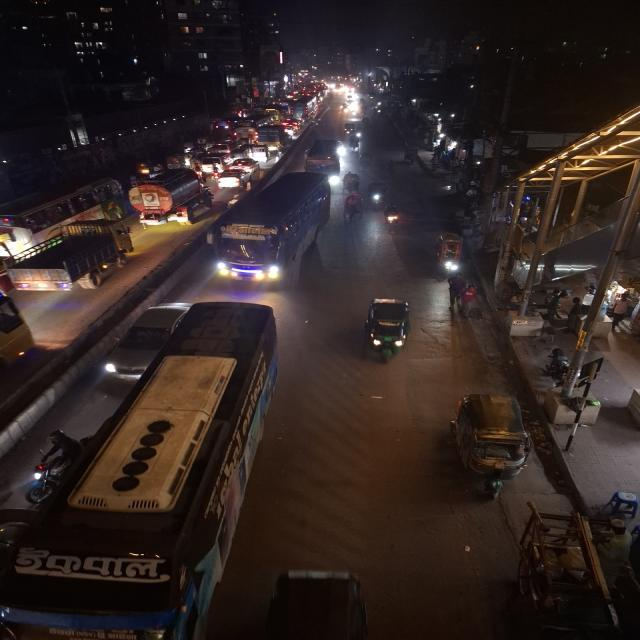bus: (17, 293, 285, 640), (209, 170, 333, 286), (0, 173, 122, 250), (302, 138, 343, 182)
car: (6, 230, 126, 294), (101, 301, 187, 381), (215, 169, 250, 191), (230, 157, 261, 173), (201, 154, 225, 173), (248, 144, 270, 160)
cng: (449, 389, 535, 504), (257, 565, 385, 640), (362, 296, 414, 363), (342, 121, 358, 137)
motorcycle: (20, 427, 84, 507), (382, 200, 403, 230)
pedestrian: (445, 271, 465, 313), (463, 283, 480, 320)
rickshaw: (430, 230, 468, 282), (341, 190, 366, 224), (366, 179, 390, 209), (341, 170, 364, 194)
truck: (8, 231, 126, 295), (127, 167, 212, 227), (254, 126, 288, 150)
